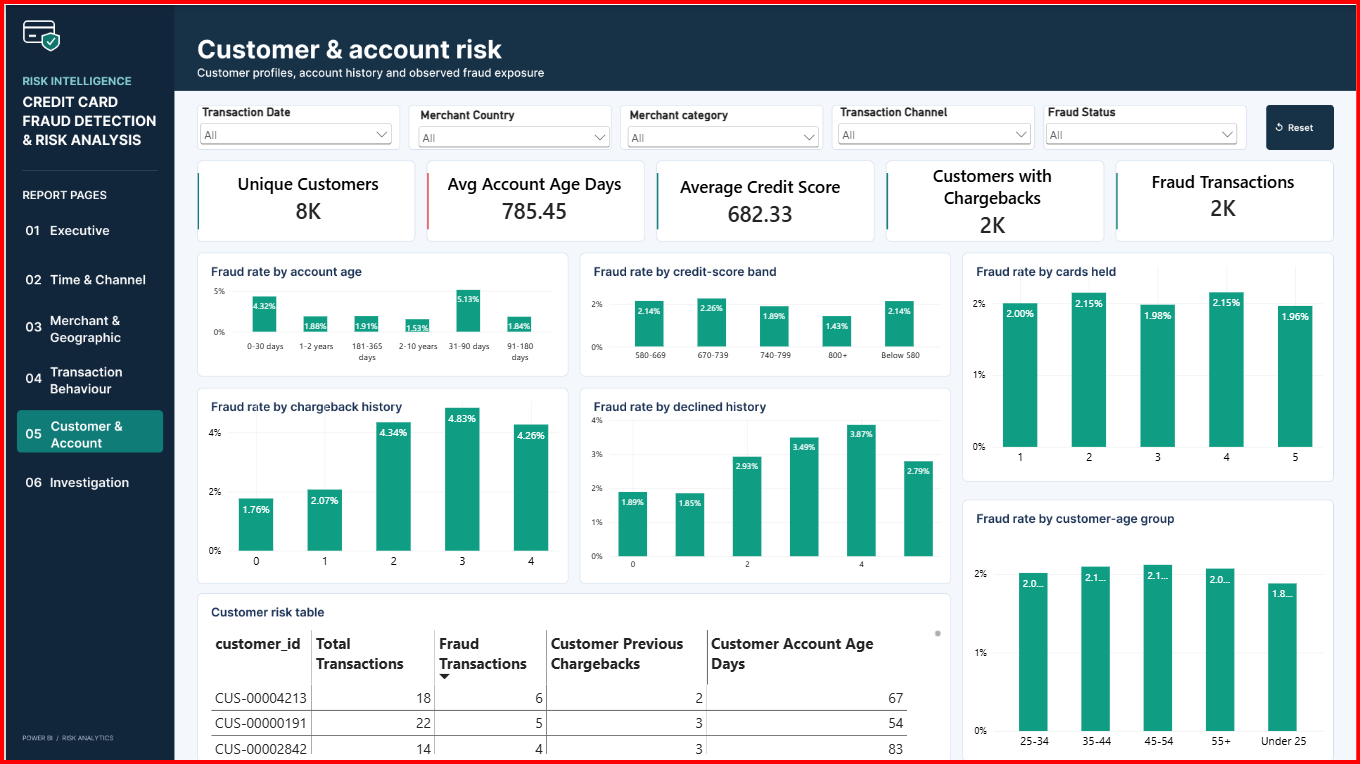

This screenshot's page, from the dashboard's own definition file:
{"tool":"powerbi","page":{"name":"Page 5","canvas":[1920,1080],"ordinal":4},"visuals":[{"type":"group","id":"g1","title":"Group 1","box":[17.5,288.5,212,415.2],"z":0},{"type":"shape","box":[17.5,288.5,212,61.2],"z":0,"group":"g1"},{"type":"shape","box":[1793.2,140.9,93.2,70.5],"z":1000},{"type":"shape","box":[17.5,349.7,212,61.2],"z":1000,"group":"g1"},{"type":"cardVisual","fields":{"Data":["credit_card_fraud.Unique Customers"]},"box":[275.7,223.9,308.7,106],"z":2000},{"type":"shape","box":[17.5,419.6,212,61.2],"z":2000,"group":"g1"},{"type":"cardVisual","fields":{"Data":["credit_card_fraud.Average Account Age Days"]},"box":[603.2,223.9,296.9,106],"z":3000},{"type":"shape","box":[17.5,504.9,212,61.2],"z":3000,"group":"g1"},{"type":"cardVisual","fields":{"Data":["credit_card_fraud.Average Credit Score"]},"box":[919,226.2,308.7,106],"z":4000},{"type":"shape","box":[17.5,566.1,212,61.2],"z":4000,"group":"g1"},{"type":"cardVisual","fields":{"Data":["credit_card_fraud.Customers With Previous Chargebacks"]},"box":[1248.9,219.1,308.7,122.5],"z":5000},{"type":"shape","box":[17.5,642.5,212,61.2],"z":5000,"group":"g1"},{"type":"cardVisual","fields":{"Data":["credit_card_fraud.Fraud Transactions"]},"box":[1576.4,212.1,308.7,120.2],"z":6000},{"type":"clusteredColumnChart","fields":{"Category":["credit_card_fraud.account_age_group"],"Y":["credit_card_fraud.Fraud Rate"]},"box":[275.7,372.3,518.4,155.5],"z":7000},{"type":"clusteredColumnChart","fields":{"Category":["credit_card_fraud.credit_score_group"],"Y":["credit_card_fraud.Fraud Rate"]},"box":[815.3,372.3,530.2,155.5],"z":8000},{"type":"clusteredColumnChart","fields":{"Category":["credit_card_fraud.num_cards_held"],"Y":["credit_card_fraud.Fraud Rate"]},"box":[1357.2,348.7,530.2,325.2],"z":9000},{"type":"clusteredColumnChart","fields":{"Category":["credit_card_fraud.num_chargebacks_ever"],"Y":["credit_card_fraud.Fraud Rate"]},"box":[271,542,530.2,280.4],"z":10000},{"type":"clusteredColumnChart","fields":{"Category":["credit_card_fraud.num_declined_last_30d"],"Y":["credit_card_fraud.Fraud Rate"]},"box":[815.3,565.5,530.2,259.2],"z":11000},{"type":"clusteredColumnChart","fields":{"Category":["credit_card_fraud.Customer Age Band"],"Y":["credit_card_fraud.Fraud Rate"]},"box":[1359.6,730.5,530.2,348.7],"z":12000},{"type":"slicer","fields":{"Values":["credit_card_fraud.transaction_date.Variation.Date Hierarchy.Month","credit_card_fraud.transaction_date.Variation.Date Hierarchy.Day"]},"box":[272,142,282,68],"z":13000,"group":"g2"},{"type":"tableEx","fields":{"Values":["credit_card_fraud.customer_id","credit_card_fraud.Total Transactions","credit_card_fraud.Fraud Transactions","credit_card_fraud.Customer Previous Chargebacks","credit_card_fraud.Customer Account Age Days"]},"box":[275.7,874.2,1069.8,205],"z":13000},{"type":"group","id":"g2","title":"Group 2","box":[272,142,1484,72],"z":13001},{"type":"slicer","fields":{"Values":["credit_card_fraud.merchant_country"]},"box":[582,146,282,60],"z":14000,"group":"g2"},{"type":"slicer","fields":{"Values":["credit_card_fraud.transaction_channel"]},"box":[1180,142,284,66],"z":15000,"group":"g2"},{"type":"slicer","fields":{"Values":["credit_card_fraud.Fraud Status Label"]},"box":[1474,142,282,68],"z":16000,"group":"g2"},{"type":"slicer","fields":{"Values":["credit_card_fraud.merchant_category"]},"box":[880,146,282,68],"z":17000,"group":"g2"}]}

Visuals, with their boxes on the page's 1920x1080 design canvas (x1, y1, x2, y2). These are canvas units, not pixel positions in the 1360x764 screenshot, which may show the page scaled, cropped or inside an application window:
"Group 1" group: l=18, t=288, r=230, b=704
shape: l=18, t=288, r=230, b=350
shape: l=1793, t=141, r=1886, b=211
shape: l=18, t=350, r=230, b=411
cardVisual - credit_card_fraud.Unique Customers: l=276, t=224, r=584, b=330
shape: l=18, t=420, r=230, b=481
cardVisual - credit_card_fraud.Average Account Age Days: l=603, t=224, r=900, b=330
shape: l=18, t=505, r=230, b=566
cardVisual - credit_card_fraud.Average Credit Score: l=919, t=226, r=1228, b=332
shape: l=18, t=566, r=230, b=627
cardVisual - credit_card_fraud.Customers With Previous Chargebacks: l=1249, t=219, r=1558, b=342
shape: l=18, t=642, r=230, b=704
cardVisual - credit_card_fraud.Fraud Transactions: l=1576, t=212, r=1885, b=332
clusteredColumnChart - credit_card_fraud.account_age_group x credit_card_fraud.Fraud Rate: l=276, t=372, r=794, b=528
clusteredColumnChart - credit_card_fraud.credit_score_group x credit_card_fraud.Fraud Rate: l=815, t=372, r=1346, b=528
clusteredColumnChart - credit_card_fraud.num_cards_held x credit_card_fraud.Fraud Rate: l=1357, t=349, r=1887, b=674
clusteredColumnChart - credit_card_fraud.num_chargebacks_ever x credit_card_fraud.Fraud Rate: l=271, t=542, r=801, b=822
clusteredColumnChart - credit_card_fraud.num_declined_last_30d x credit_card_fraud.Fraud Rate: l=815, t=566, r=1346, b=825
clusteredColumnChart - credit_card_fraud.Customer Age Band x credit_card_fraud.Fraud Rate: l=1360, t=730, r=1890, b=1079
slicer - credit_card_fraud.transaction_date.Variation.Date Hierarchy.Month x credit_card_fraud.transaction_date.Variation.Date Hierarchy.Day: l=272, t=142, r=554, b=210
tableEx - credit_card_fraud.customer_id x credit_card_fraud.Total Transactions: l=276, t=874, r=1346, b=1079
"Group 2" group: l=272, t=142, r=1756, b=214
slicer - credit_card_fraud.merchant_country: l=582, t=146, r=864, b=206
slicer - credit_card_fraud.transaction_channel: l=1180, t=142, r=1464, b=208
slicer - credit_card_fraud.Fraud Status Label: l=1474, t=142, r=1756, b=210
slicer - credit_card_fraud.merchant_category: l=880, t=146, r=1162, b=214
